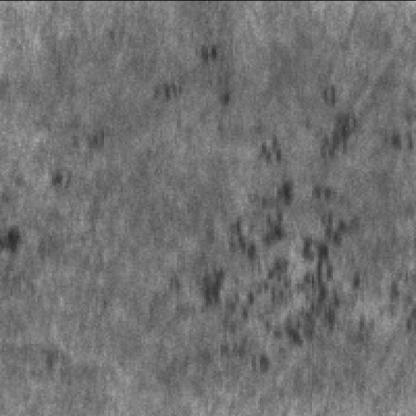rolled-in_scale: (183, 104, 412, 370)
